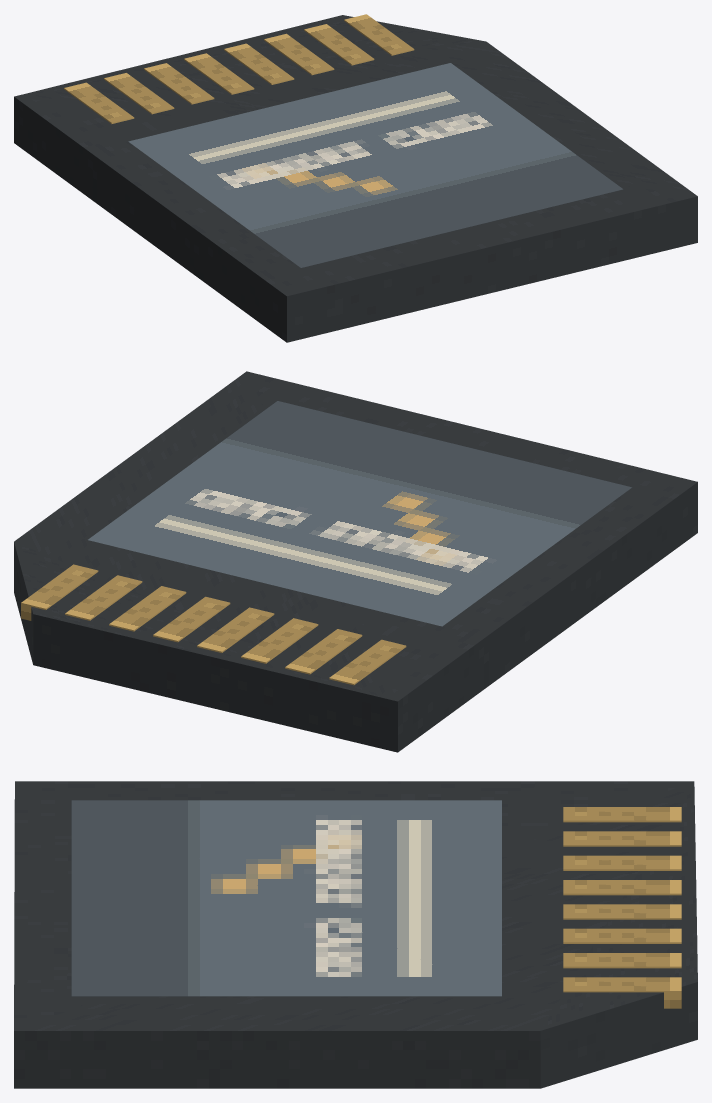
File: memory_card_unread.glb
3 renders of one model, top to bottom at view 1: azimuth 30°, elevation 25°; view 2: azimuth 150°, elevation 25°; view 3: azimuth 270°, elevation 25°, orthographic. The views are drawn at different scales.
Parts seen in each view (by area): view 1: block_memory card shell, block_capacity label, block_gold contact (×8); view 2: block_memory card shell, block_capacity label, block_gold contact (×8); view 3: block_memory card shell, block_capacity label, block_gold contact (×8).
Part boxes in pixels (<box>): block_memory card shell: <box>14,15,697,342</box>; block_capacity label: <box>128,63,622,267</box>; block_gold contact (×8): <box>64,14,414,123</box>; block_memory card shell: <box>14,371,697,752</box>; block_capacity label: <box>88,401,631,626</box>; block_gold contact (×8): <box>21,564,406,685</box>; block_memory card shell: <box>14,781,697,1088</box>; block_capacity label: <box>71,800,501,996</box>; block_gold contact (×8): <box>563,807,681,1008</box>.
Size of the model in its own units: 0.0165 by 0.00188 by 0.0191.
Materials: 1 (1 with a texture image).
